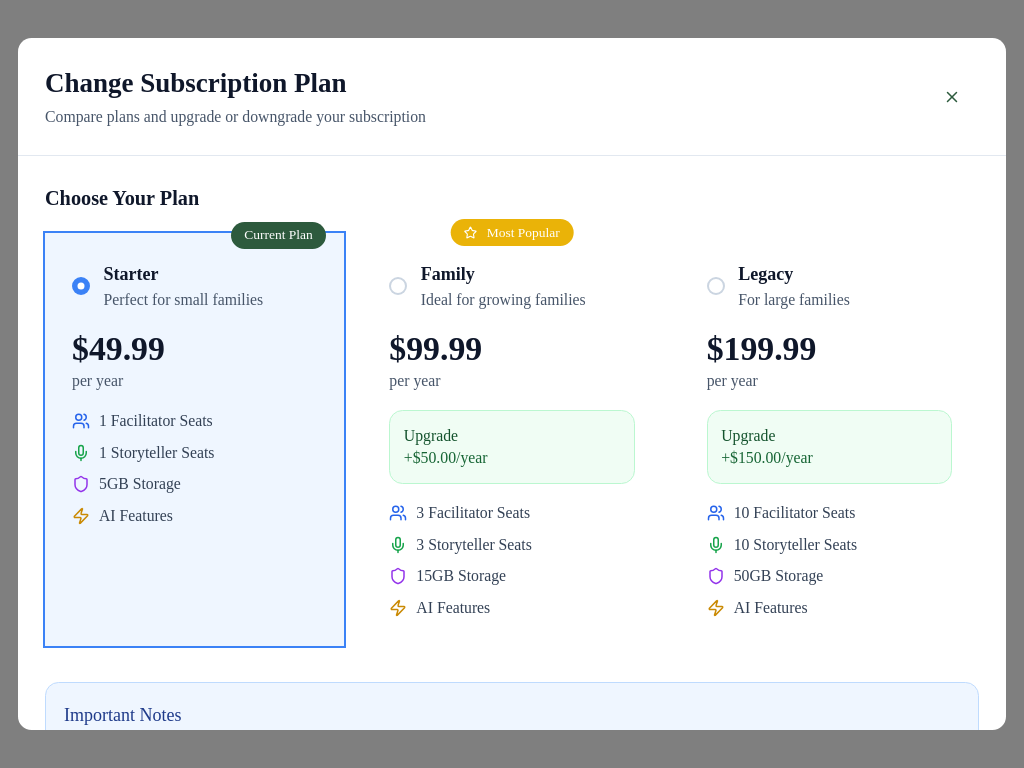
it: SubscriptionUpgradeModal › Plan Selection › allows selecting different plans
// Click on Family plan
Click the text "Family" at [448, 274], box [421,260,586,311]
(page scrolled)
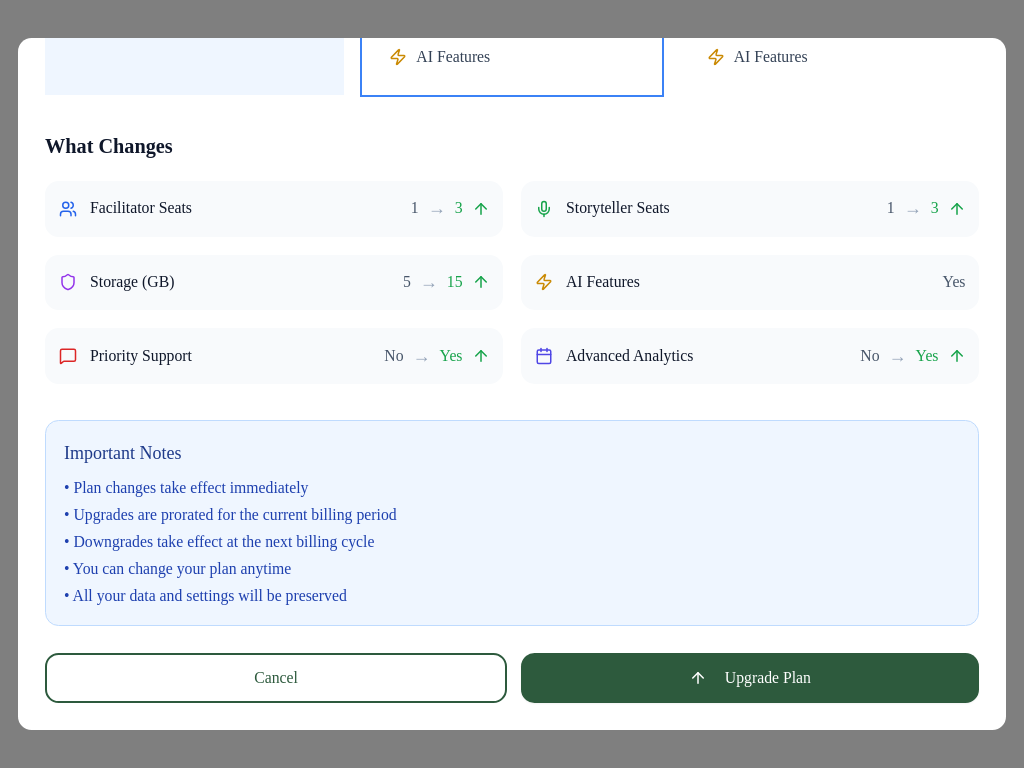
Now the button "Upgrade Plan" is shown, box [521,653,979,703]
